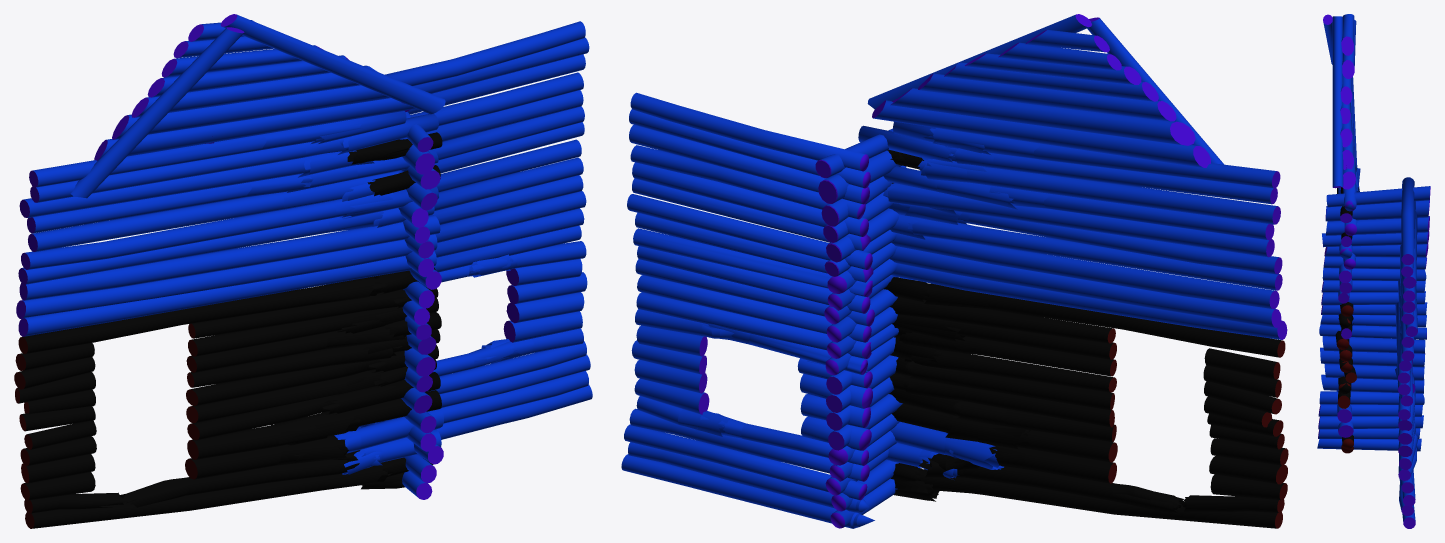
The model's file is SM_SmallLodge_WallFront.fbx.
The picture shows the model from 3 angles, left to right: view 1: azimuth 30°, elevation 25°; view 2: azimuth 150°, elevation 25°; view 3: azimuth 270°, elevation 25°; orthographic projection. The views are drawn at different scales.
Parts seen in each view (by area): view 1: Door, Window, AboveDoor, Roof, BetweenUpAndDown, SolidLog, CrackedLog, CrackedLog.001, DoorLeft, WindowRight; view 2: Window, Door, AboveDoor, Roof, BetweenUpAndDown, SolidLog, DoorLeft, WindowRight, CrackedLog.001, CrackedLog; view 3: SolidLog, DoorLeft, Window, Roof, WindowRight, Door, AboveDoor, CrackedLog, BetweenUpAndDown, CrackedLog.001.
Part boxes in pixels (bbox=[...]): Door: bbox=[14, 267, 441, 528]; Window: bbox=[357, 21, 592, 439]; AboveDoor: bbox=[18, 111, 438, 284]; Roof: bbox=[70, 14, 445, 198]; BetweenUpAndDown: bbox=[16, 215, 440, 336]; SolidLog: bbox=[360, 236, 443, 499]; CrackedLog: bbox=[314, 132, 442, 429]; CrackedLog.001: bbox=[334, 409, 443, 474]; DoorLeft: bbox=[398, 111, 440, 243]; WindowRight: bbox=[401, 334, 436, 413]; Window: bbox=[621, 92, 874, 528]; Door: bbox=[884, 277, 1288, 528]; AboveDoor: bbox=[858, 121, 1282, 290]; Roof: bbox=[867, 14, 1223, 167]; BetweenUpAndDown: bbox=[890, 233, 1287, 339]; SolidLog: bbox=[824, 243, 920, 528]; DoorLeft: bbox=[815, 128, 906, 276]; WindowRight: bbox=[826, 337, 902, 450]; CrackedLog.001: bbox=[886, 421, 1003, 479]; CrackedLog: bbox=[887, 149, 1000, 435]; SolidLog: bbox=[1317, 268, 1427, 451]; DoorLeft: bbox=[1322, 186, 1430, 269]; Window: bbox=[1395, 177, 1417, 528]; Roof: bbox=[1323, 14, 1356, 189]; WindowRight: bbox=[1320, 336, 1425, 393]; Door: bbox=[1335, 188, 1356, 453]; AboveDoor: bbox=[1338, 78, 1360, 269]; CrackedLog: bbox=[1337, 187, 1352, 408]; BetweenUpAndDown: bbox=[1338, 263, 1352, 303]; CrackedLog.001: bbox=[1337, 391, 1353, 437].
Size of the model in its own units: 1071 by 239 by 871.
